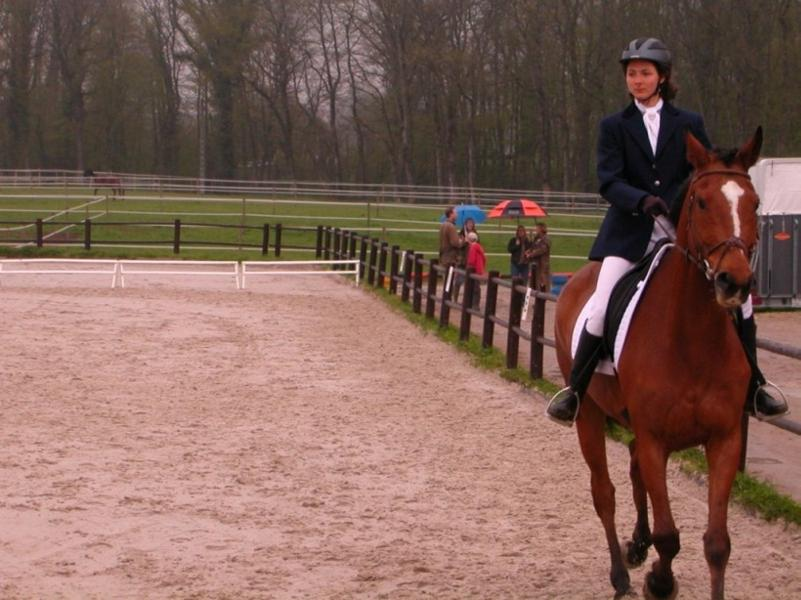person: (541, 38, 793, 428)
